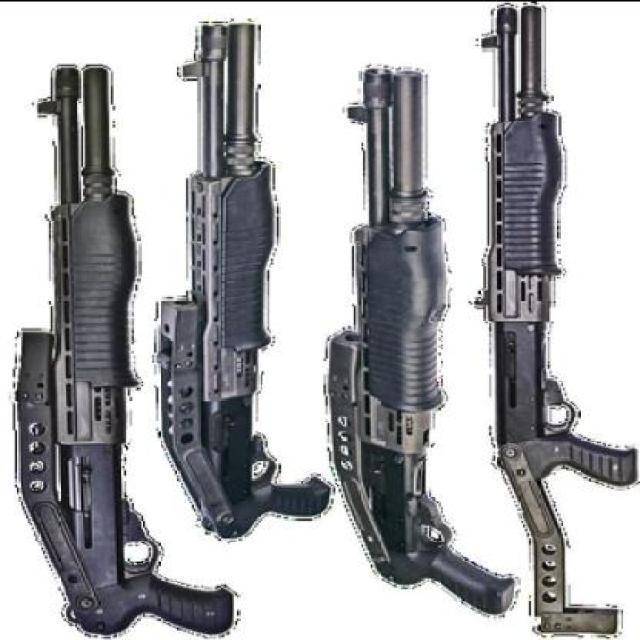weapon: (9, 62, 237, 639), (321, 61, 517, 617), (470, 0, 638, 638), (151, 14, 331, 540)
